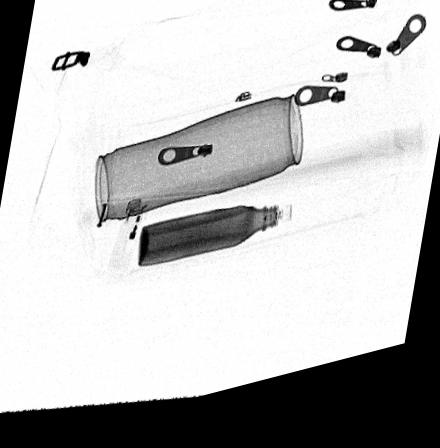Lighter: (106, 203, 151, 277)
